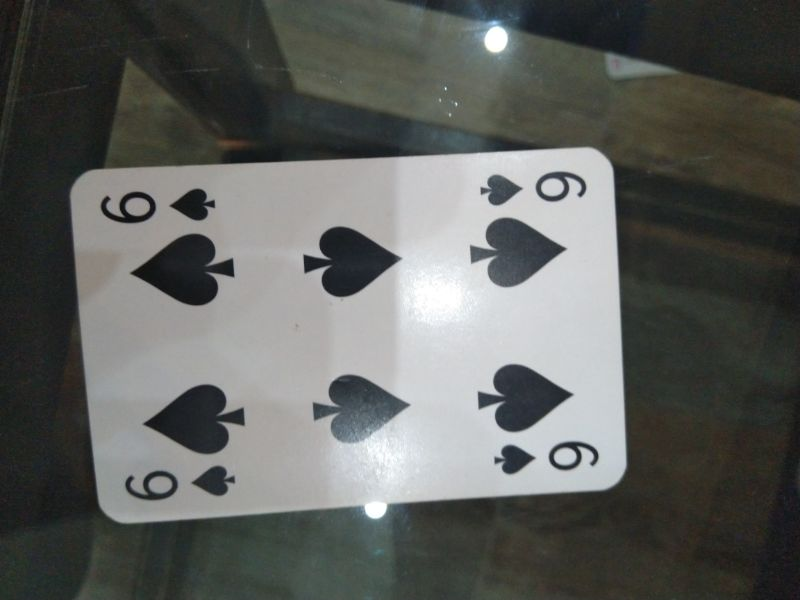6s: (98, 177, 224, 229), (476, 161, 591, 210), (120, 461, 243, 506), (489, 435, 605, 479)
